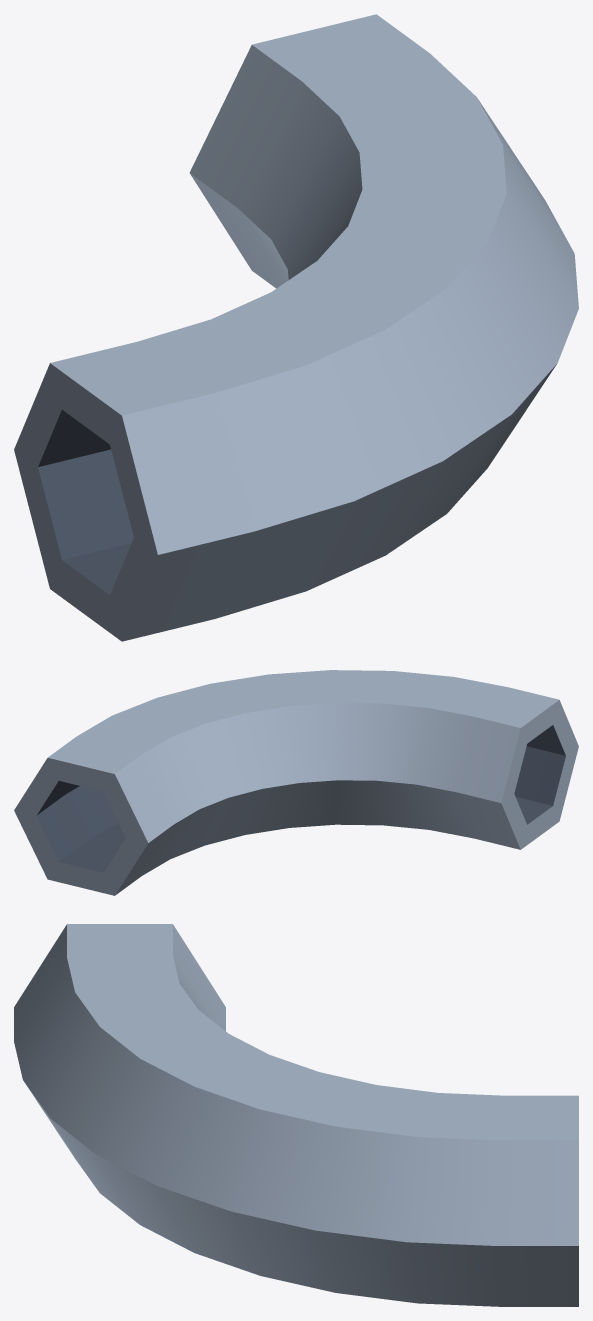
The model's file is pipe_cornerRoundLarge.glb.
The picture shows the model from 3 angles, top to bottom: view 1: azimuth 30°, elevation 25°; view 2: azimuth 150°, elevation 25°; view 3: azimuth 270°, elevation 25°; orthographic projection. The views are drawn at different scales.
Visible parts, largest first — view 1: pipe_cornerRoundLarge; view 2: pipe_cornerRoundLarge; view 3: pipe_cornerRoundLarge.
Boxes of the visible parts, x1=… form: pipe_cornerRoundLarge: x1=14, y1=14, x2=578, y2=641; pipe_cornerRoundLarge: x1=14, y1=670, x2=578, y2=895; pipe_cornerRoundLarge: x1=14, y1=924, x2=578, y2=1306.
Bounding box in the file's own units: 1.85 × 0.6 × 1.85.
